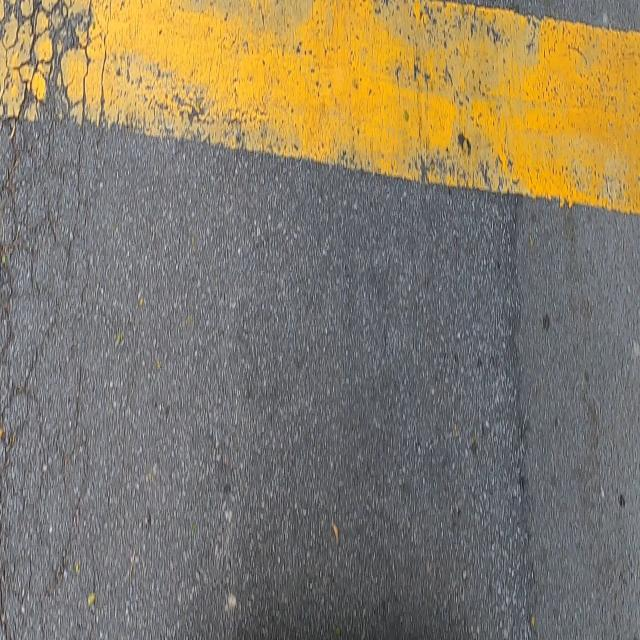Retak-Buaya: (0, 0, 94, 640)
